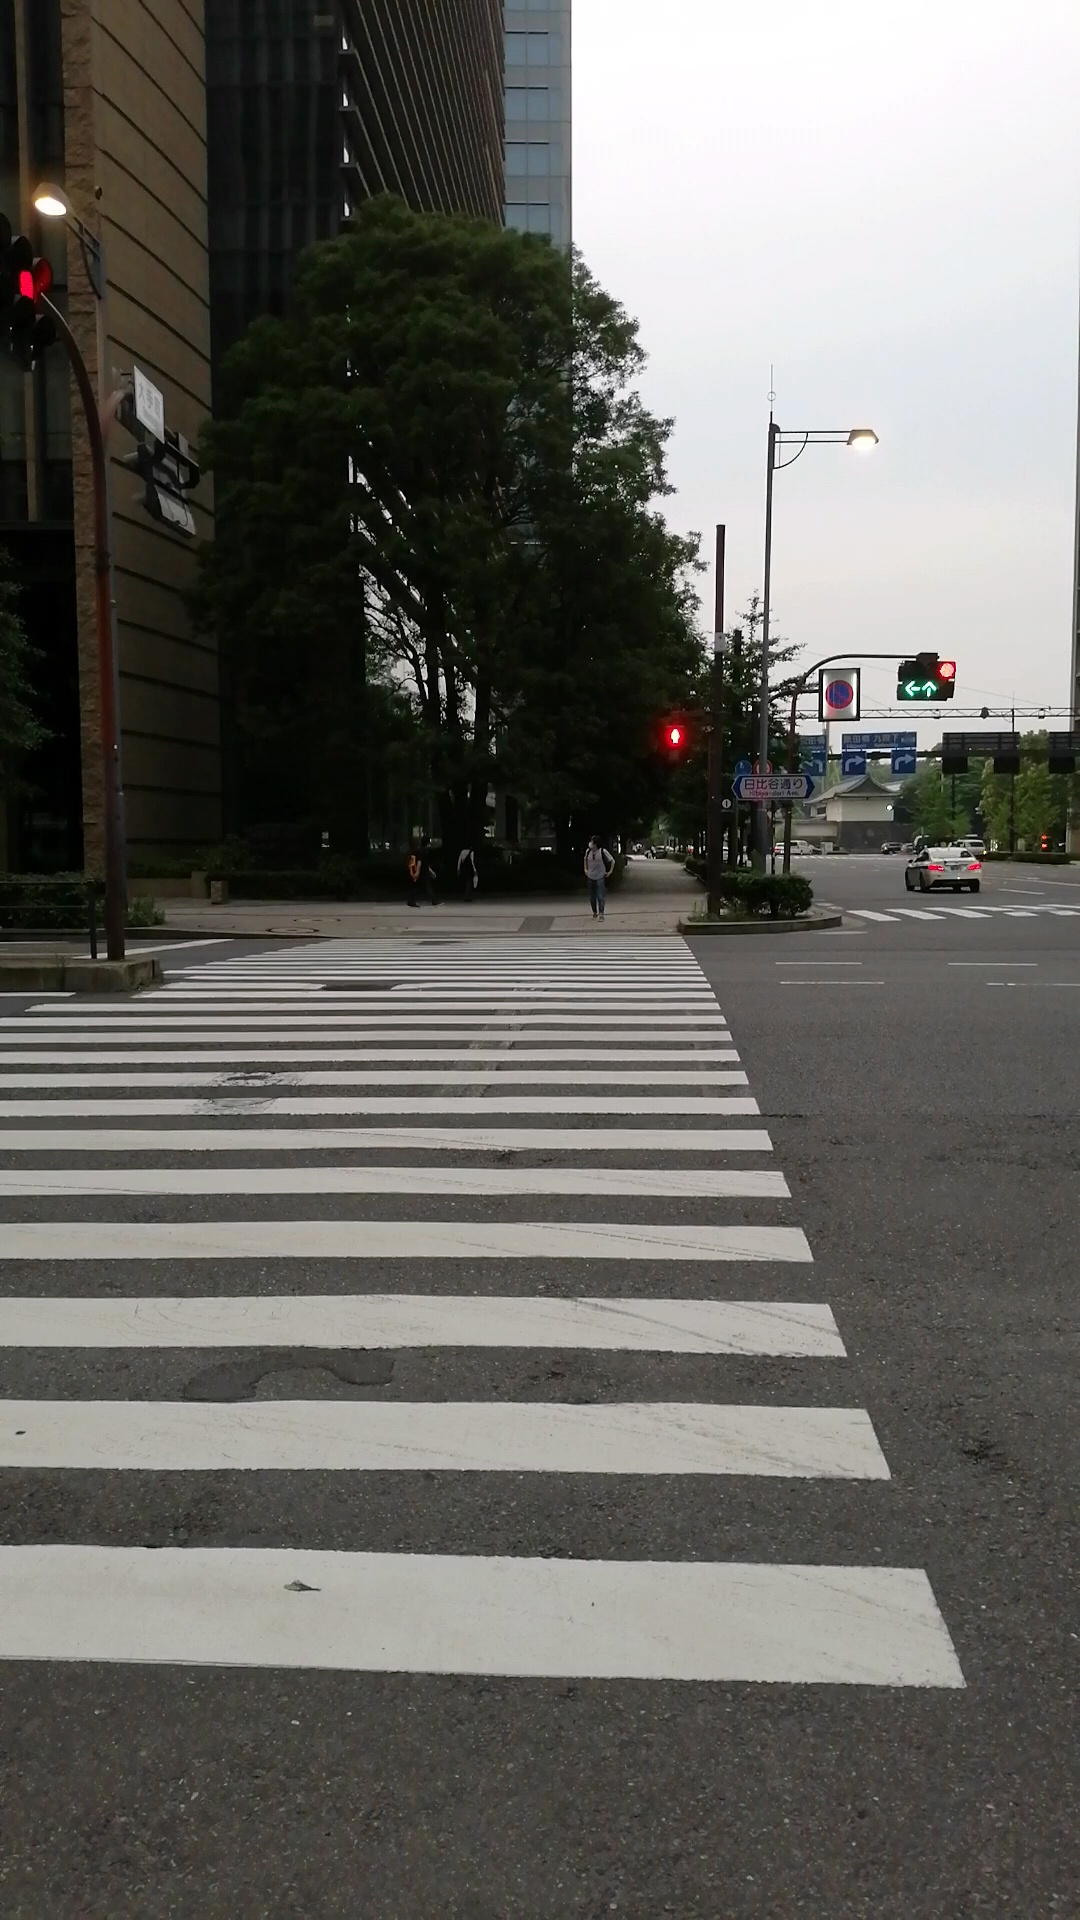red: (662, 719, 688, 767)
